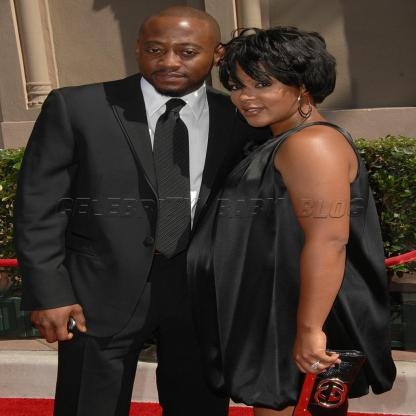face: (144, 22, 212, 93), (230, 57, 299, 126)
